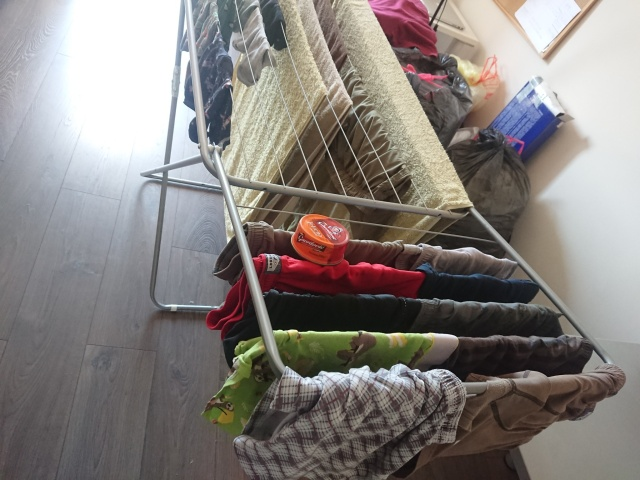Gavrilovic Pork Liver Pate 100g: (288, 211, 350, 267)
